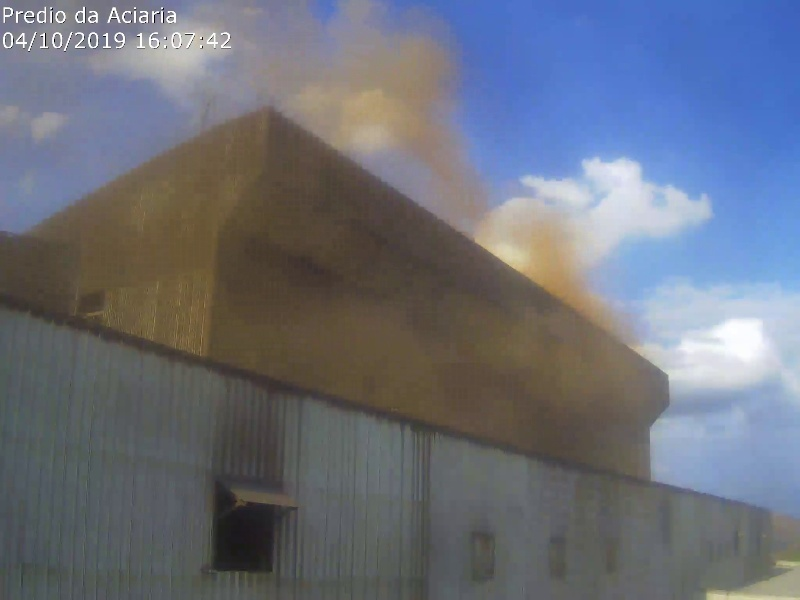bom: (528, 3, 800, 192), (686, 196, 800, 449)
pessimo: (147, 6, 448, 413), (286, 37, 504, 273), (514, 230, 673, 433)
